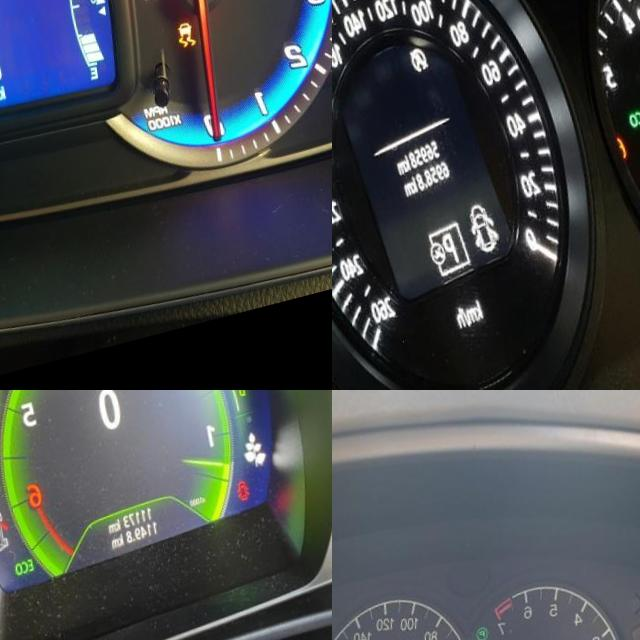Doors: (225, 500, 239, 523)
